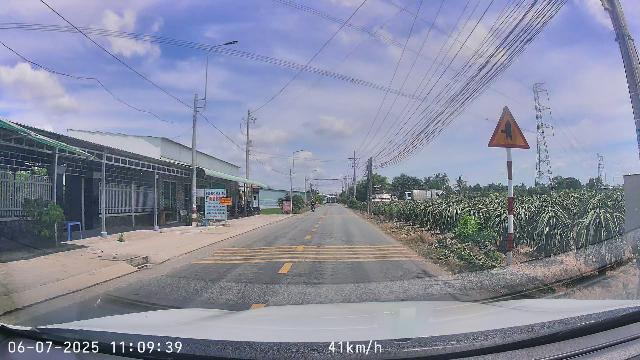207-giao-nhau-voi-duong-khong-uu-tien: (488, 106, 530, 149)
